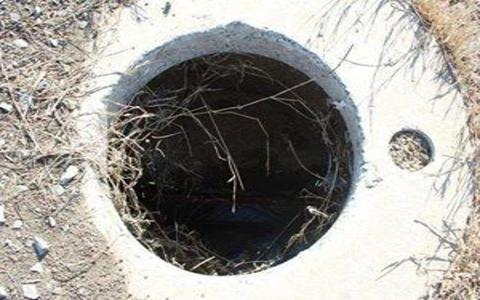open manhole: (64, 9, 382, 293)
